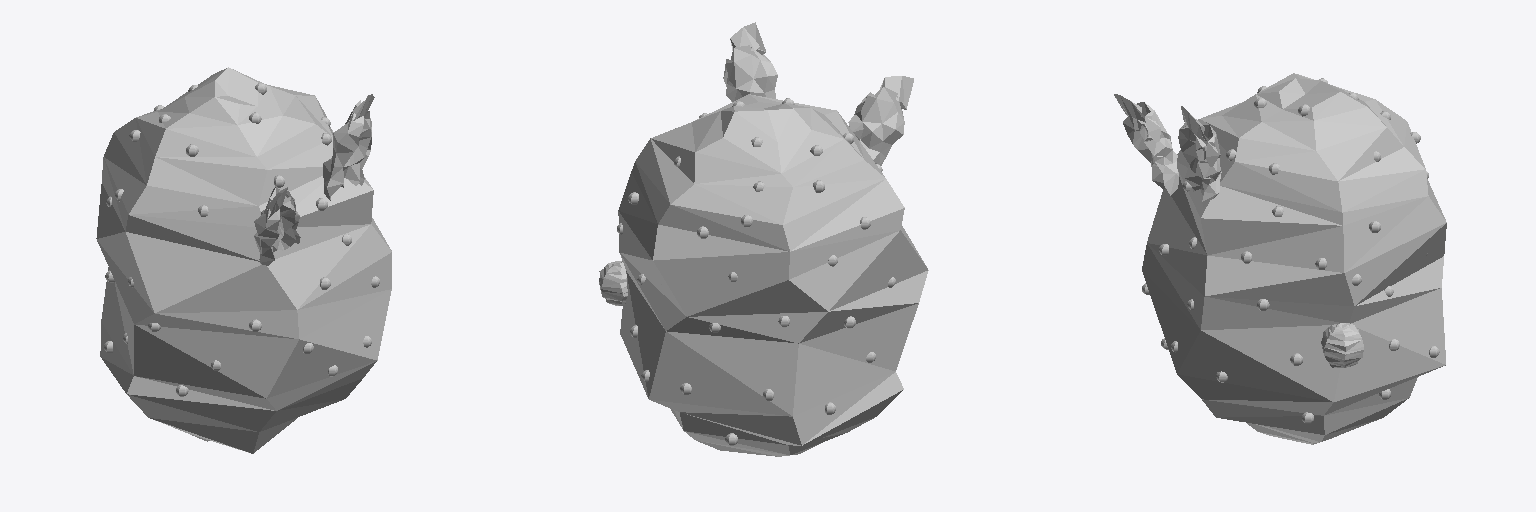
The model's file is bunnybush.obj.
3 renders of one model, left to right at view 1: azimuth 30°, elevation 25°; view 2: azimuth 150°, elevation 25°; view 3: azimuth 270°, elevation 25°, orthographic.
Parts seen in each view (by area): view 1: Sphere.109, Plane.002_Plane, Plane.001_Plane.002; view 2: Sphere.109, Plane.001_Plane.002, Plane.002_Plane, Sphere_Sphere.110; view 3: Sphere.109, Plane.001_Plane.002, Plane.002_Plane, Sphere_Sphere.110.
Boxes of the visible parts, box(x1,y1,x2,y2) form: Sphere.109: box(96, 67, 391, 453); Plane.002_Plane: box(323, 94, 374, 200); Plane.001_Plane.002: box(254, 186, 300, 265); Sphere.109: box(618, 94, 928, 456); Plane.001_Plane.002: box(848, 76, 913, 165); Plane.002_Plane: box(723, 22, 777, 101); Sphere_Sphere.110: box(599, 261, 627, 305); Sphere.109: box(1142, 73, 1446, 444); Plane.001_Plane.002: box(1114, 94, 1178, 195); Plane.002_Plane: box(1178, 106, 1221, 207); Sphere_Sphere.110: box(1321, 323, 1363, 367).
Size of the model in its own units: 0.6225 by 0.7939 by 0.66.